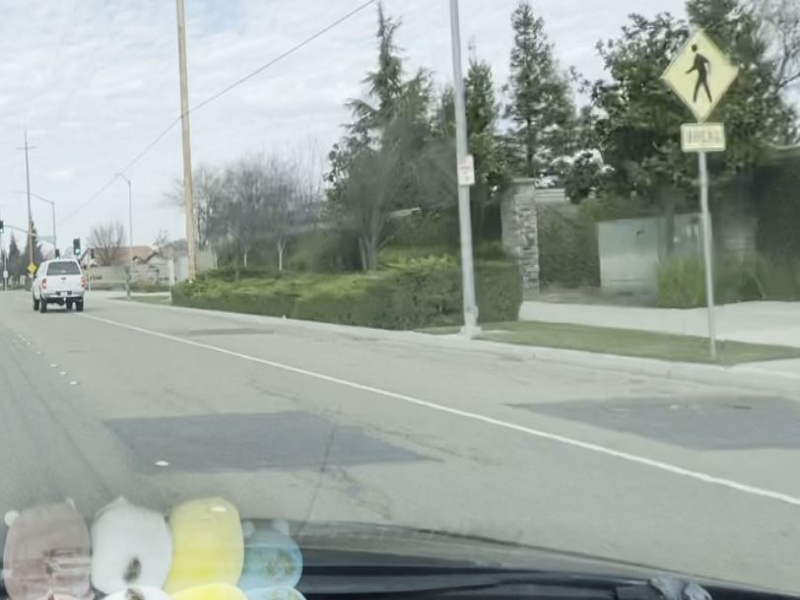walk sign: (660, 29, 740, 122)
